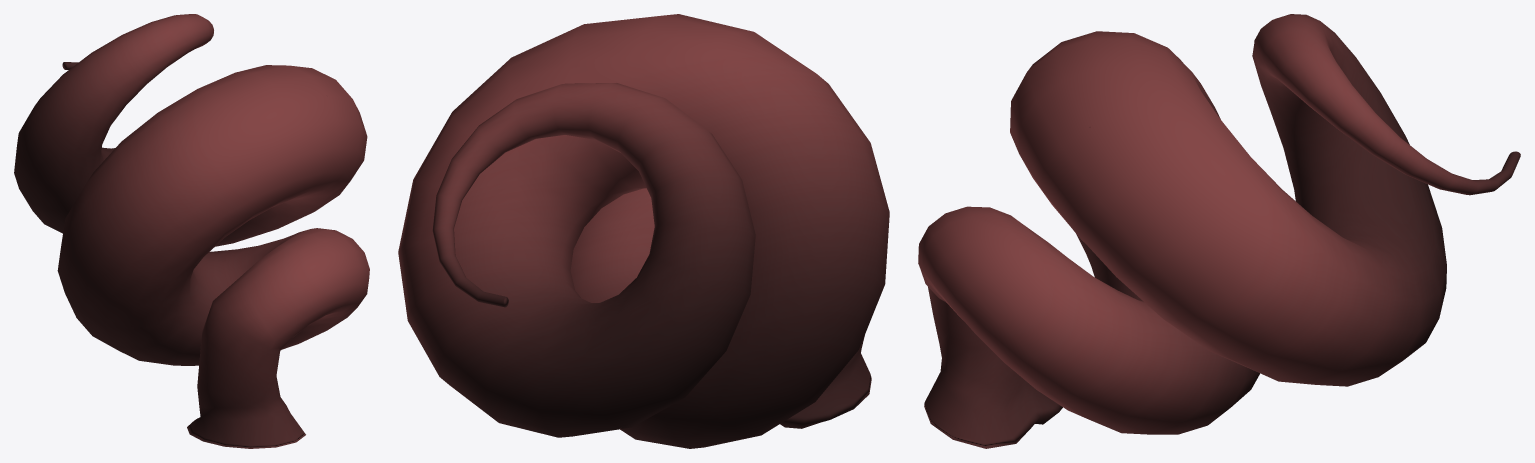
File: spiral.glb
3 renders of one model, left to right at view 1: azimuth 30°, elevation 25°; view 2: azimuth 150°, elevation 25°; view 3: azimuth 270°, elevation 25°, orthographic. The views are drawn at different scales.
Parts seen in each view (by area): view 1: t_spiral2; view 2: t_spiral2; view 3: t_spiral2.
Part boxes in pixels (x1=…): t_spiral2: x1=14, y1=14, x2=369, y2=448; t_spiral2: x1=398, y1=14, x2=889, y2=448; t_spiral2: x1=918, y1=14, x2=1520, y2=448.
Bounding box in the file's own units: 0.0533 × 0.0532 × 0.0701.
1 material, 1 textured.
